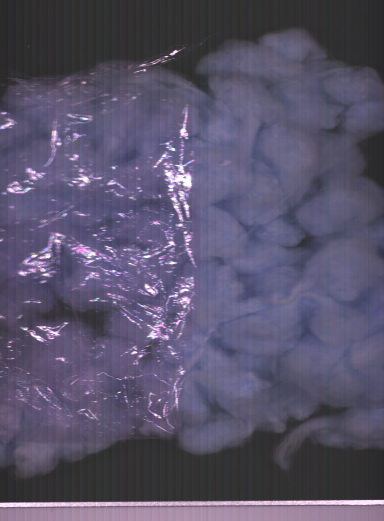Cotton: (297, 322, 369, 400), (297, 69, 372, 110), (232, 315, 294, 350), (229, 272, 286, 309), (326, 248, 367, 295), (216, 87, 256, 134), (325, 187, 366, 216), (308, 146, 345, 175), (205, 355, 239, 386), (212, 156, 245, 186), (247, 186, 286, 211), (263, 81, 294, 112), (252, 159, 298, 179), (325, 226, 369, 246), (227, 51, 271, 69), (203, 274, 226, 305), (251, 247, 283, 266), (196, 426, 233, 442), (291, 250, 311, 279), (208, 220, 231, 242), (301, 110, 324, 130), (273, 139, 305, 152), (343, 421, 372, 435), (293, 287, 316, 304), (267, 226, 289, 239), (241, 384, 261, 398), (301, 206, 317, 220), (354, 119, 370, 130), (286, 41, 301, 50)
Film_on_cotton: (10, 86, 185, 298), (14, 345, 133, 416), (115, 305, 160, 335)
